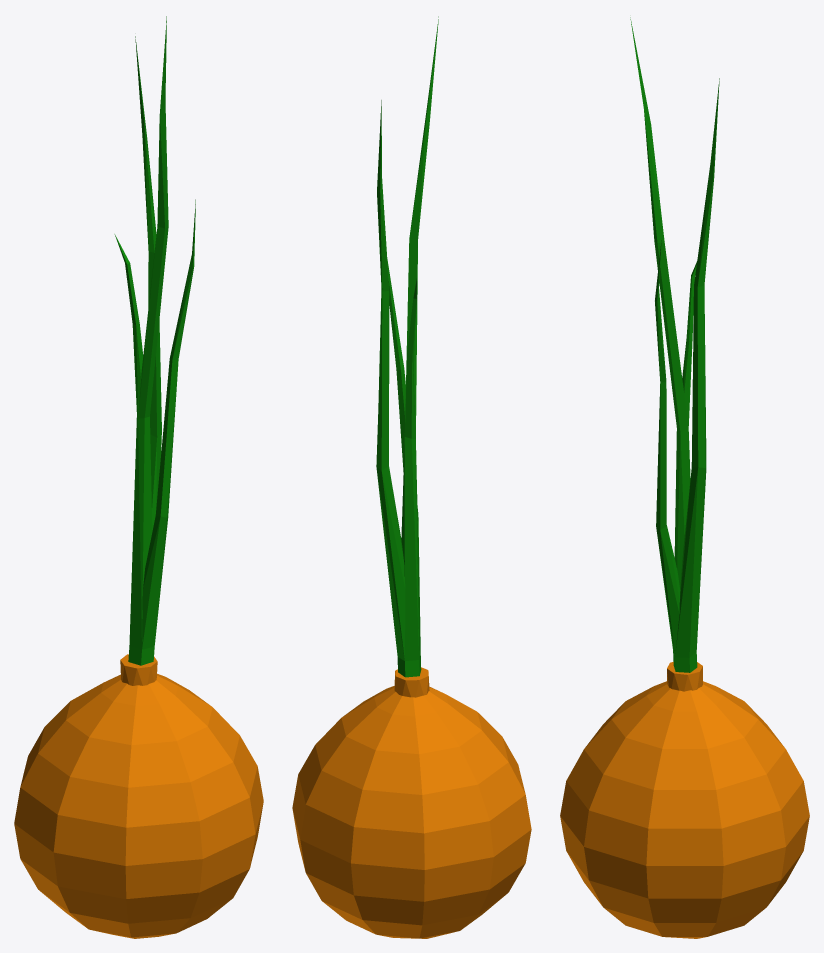
The model's file is Onion.fbx.
3 renders of one model, left to right at view 1: azimuth 30°, elevation 25°; view 2: azimuth 150°, elevation 25°; view 3: azimuth 270°, elevation 25°, orthographic. The views are drawn at different scales.
Parts seen in each view (by area): view 1: Onion, Leaves; view 2: Onion, Leaves; view 3: Onion, Leaves.
Part boxes in pixels (<box>): Onion: <box>14,654,263,938</box>; Leaves: <box>114,16,195,665</box>; Onion: <box>292,667,531,938</box>; Leaves: <box>376,16,438,677</box>; Onion: <box>560,662,809,938</box>; Leaves: <box>630,17,719,672</box>.
Bounding box in the file's own units: 190 × 808 × 200.
